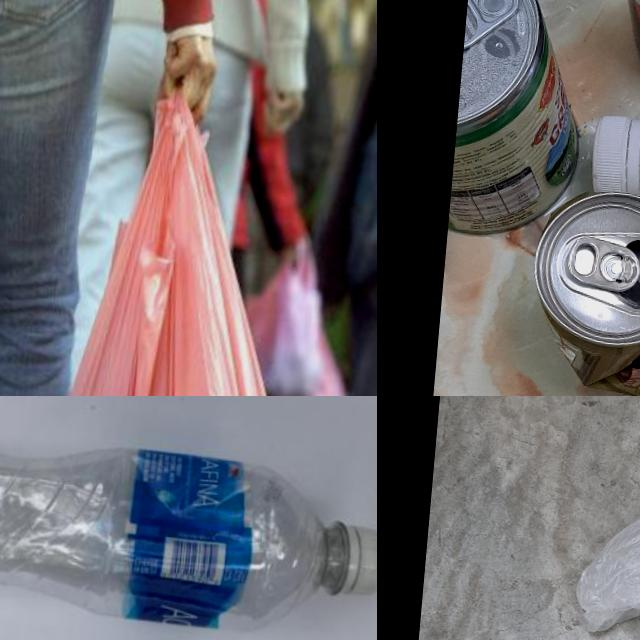aba de lata: (564, 236, 640, 292), (462, 0, 520, 58)
garrafa plástica: (0, 419, 337, 640)
lata: (446, 0, 595, 243), (520, 185, 640, 396)
sacola plástica: (34, 71, 338, 396)
tampa plástica: (587, 113, 640, 197), (332, 525, 377, 599)
